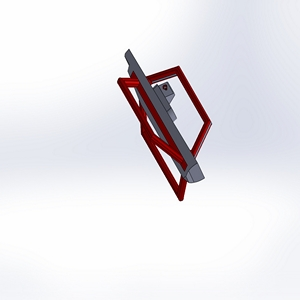submarine: (105, 40, 221, 216)
